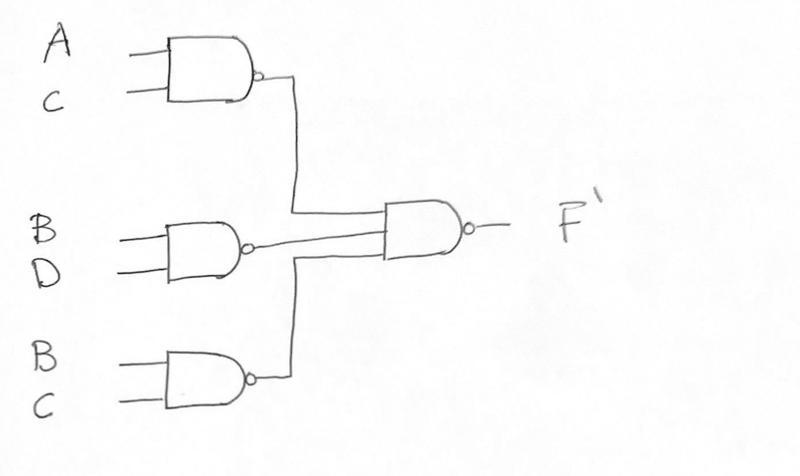NAND: (158, 24, 271, 121), (371, 185, 482, 274), (149, 345, 267, 422), (151, 214, 262, 286)
